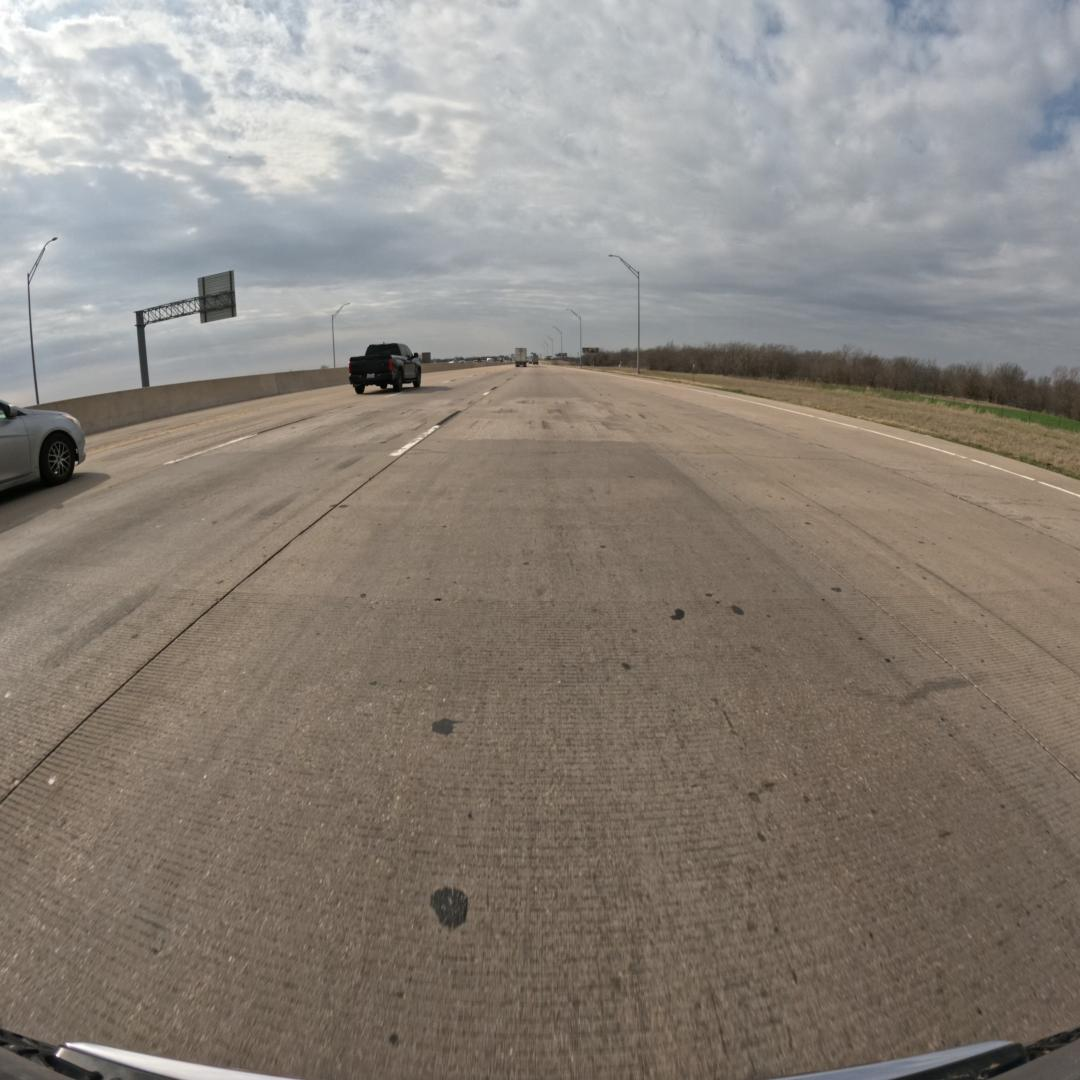lane0: (0, 366, 1080, 1080)
lane1: (0, 371, 506, 801)
